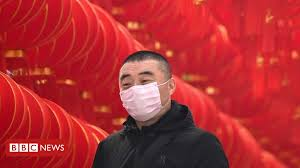mask: (116, 49, 179, 128)
